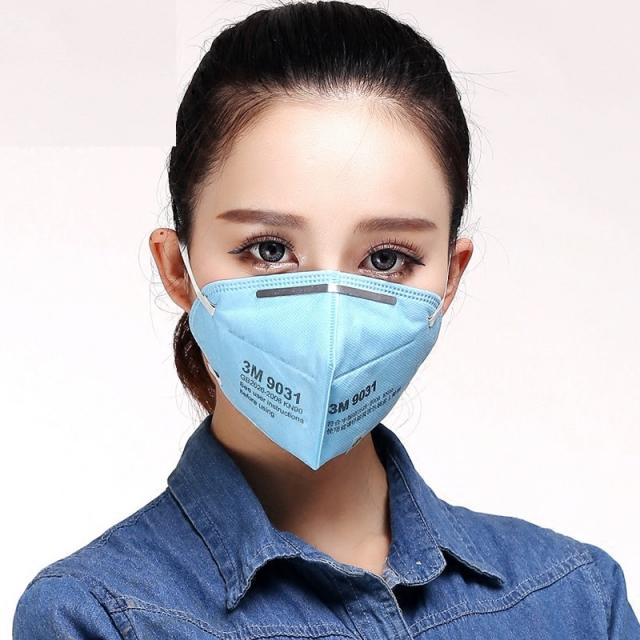mask: (193, 99, 449, 458)
